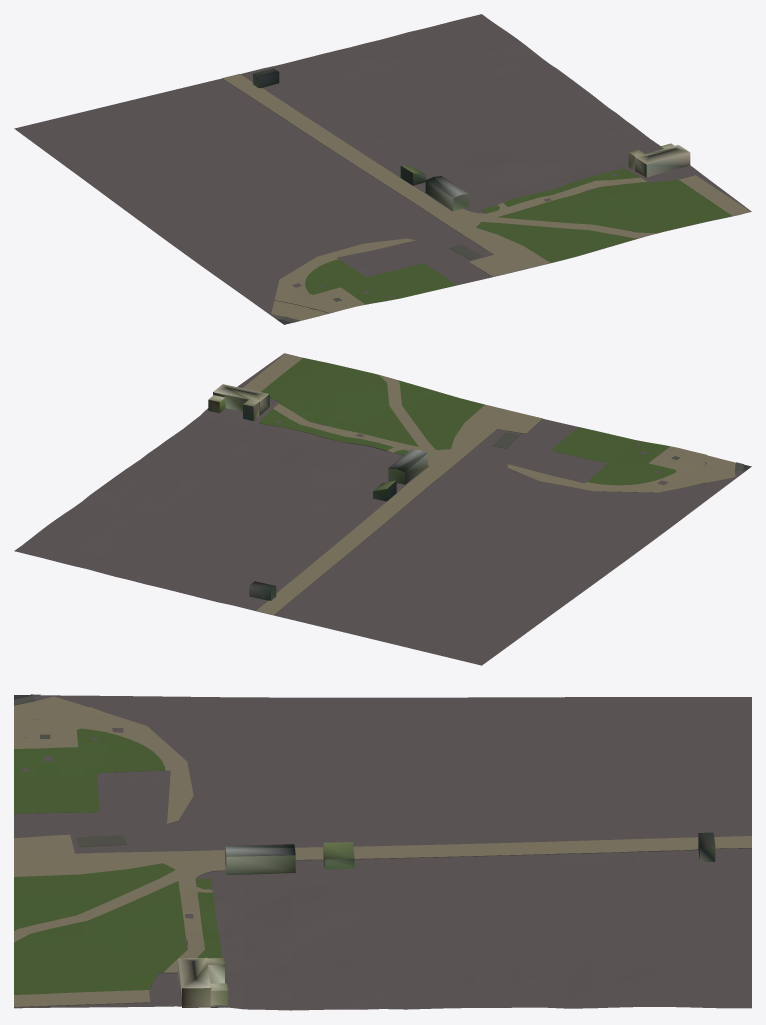
3 renders of one model, top to bottom at view 1: azimuth 30°, elevation 25°; view 2: azimuth 150°, elevation 25°; view 3: azimuth 270°, elevation 25°, orthographic. The views are drawn at different scales.
Parts seen in each view (by area): view 1: c_m04_m05; view 2: c_m04_m05; view 3: c_m04_m05.
Boxes of the visible parts, x1=… form: c_m04_m05: x1=14, y1=14, x2=751, y2=324; c_m04_m05: x1=14, y1=353, x2=751, y2=665; c_m04_m05: x1=14, y1=694, x2=751, y2=1010.
Size of the model in its own units: 128 by 5.29 by 128.
